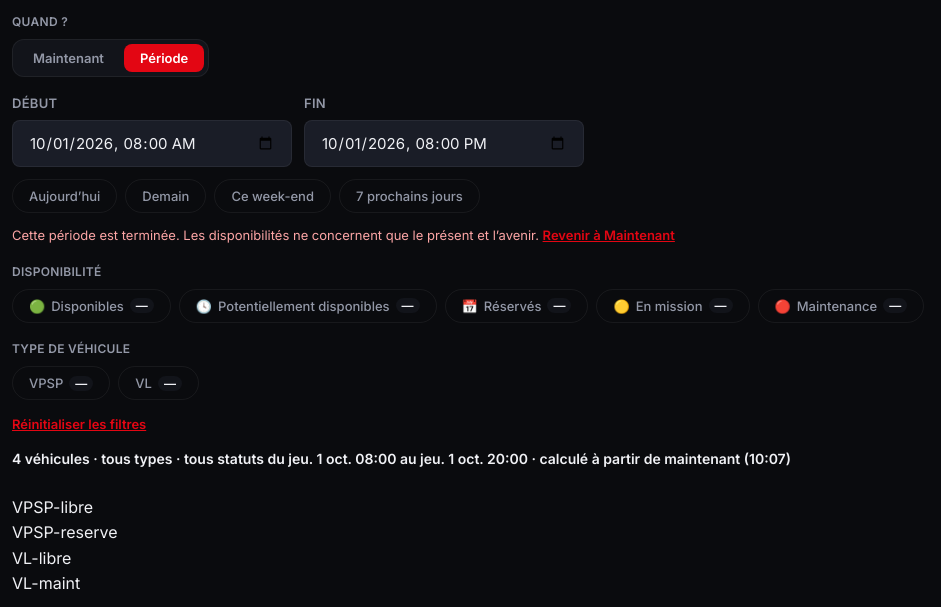
Test case: DtFilterPanel › période passée : message et lien « Revenir à Maintenant »
Expected: the message shows "Cette période est terminée.", [12,227,539,243]
Click the button "Revenir à Maintenant" at point(609, 235), box [543,227,675,243]
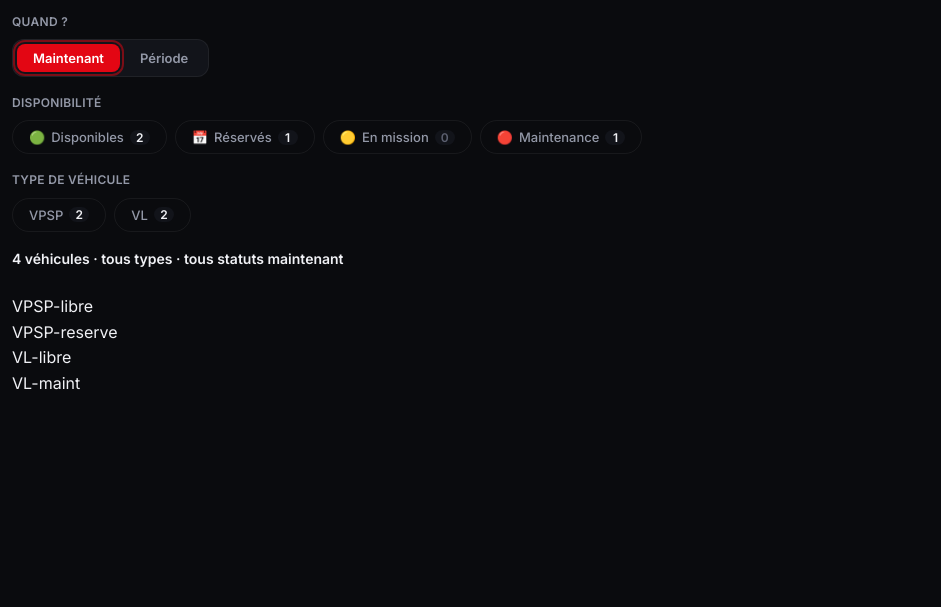
Expected: the message is gone
